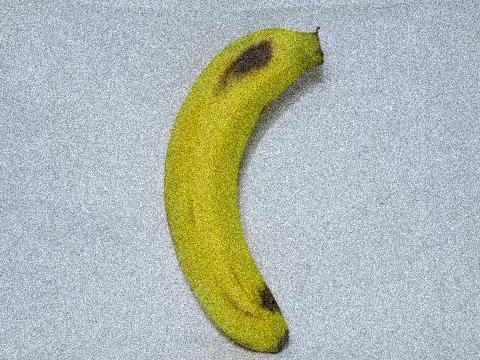freshripe: (138, 14, 341, 356)
